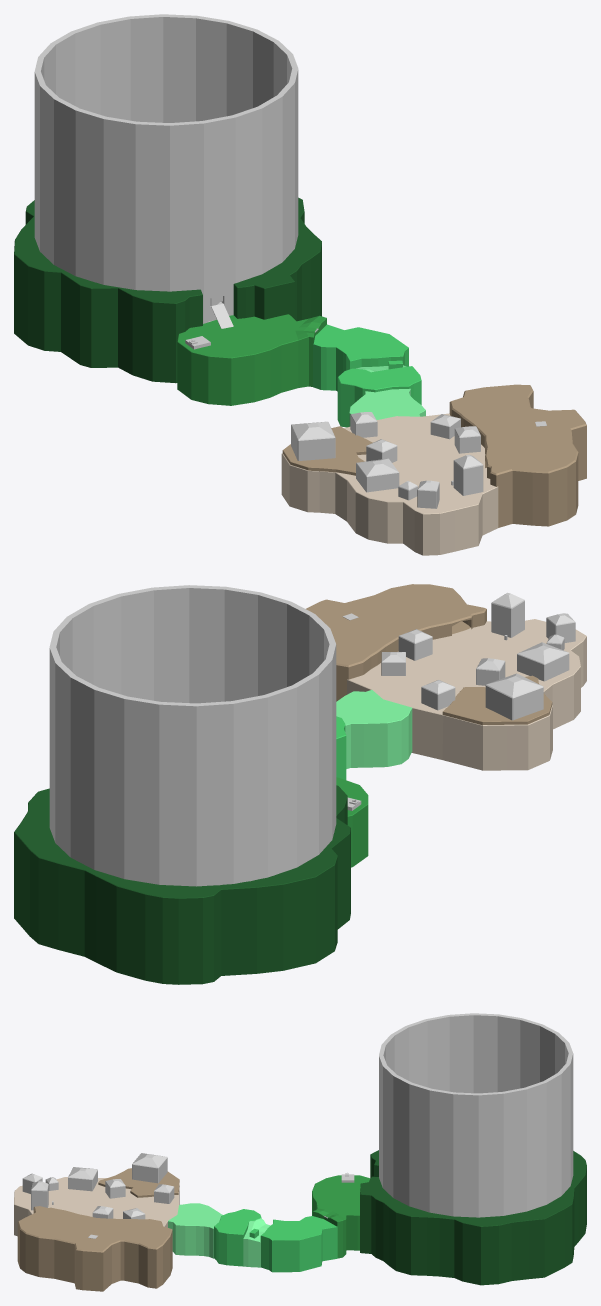
Rendered from LevelDesing_Blocking-Tutot-Test.fbx.
The picture shows the model from 3 angles, top to bottom: view 1: azimuth 30°, elevation 25°; view 2: azimuth 150°, elevation 25°; view 3: azimuth 270°, elevation 25°; orthographic projection. The views are drawn at different scales.
Parts seen in each view (by area): view 1: Z- Tours, Zone-CouloirTuto-H4, Zone-Village-H1, Zone-Village-H3, Zone-CouloirTuto-H3, Zone-CouloirTuto-H2-2, Zone-CouloirTuto-H2-1, Zone-Village-H2-1, Zone-CouloirTuto-H1-1, House.006, House.004, House; view 2: Z- Tours, Zone-CouloirTuto-H4, Zone-Village-H1, Zone-Village-H3, Zone-CouloirTuto-H1-1, House.006, Zone-Village-H2-1, Zone-CouloirTuto-H3, House.004, House, House.001, House.007 (+4 smaller); view 3: Z- Tours, Zone-CouloirTuto-H4, Zone-Village-H3, Zone-CouloirTuto-H2-2, Zone-Village-H1, Zone-CouloirTuto-H3, Zone-CouloirTuto-H1-1, Zone-CouloirTuto-H2-1, Zone-Village-H2-1, House.006, Zone-CouloirTuto-H1-2, House.004 (+1 smaller).
Part boxes in pixels (x1,y1,x2,y2): Z- Tours: (34,14,298,323); Zone-CouloirTuto-H4: (14,197,321,383); Zone-Village-H1: (281,413,498,555); Zone-Village-H3: (449,384,586,527); Zone-CouloirTuto-H3: (177,314,326,405); Zone-CouloirTuto-H2-2: (313,324,408,391); Zone-CouloirTuto-H2-1: (337,366,421,427); Zone-Village-H2-1: (282,426,372,475); Zone-CouloirTuto-H1-1: (349,388,425,426); House.006: (291,421,335,460); House.004: (356,458,399,492); House: (453,454,483,495); Z- Tours: (49,585,336,886); Zone-CouloirTuto-H4: (14,785,350,984); Zone-Village-H1: (347,619,586,770); Zone-Village-H3: (306,584,486,701); Zone-CouloirTuto-H1-1: (336,690,412,768); House.006: (485,673,543,720); Zone-Village-H2-1: (442,675,552,725); Zone-CouloirTuto-H3: (336,777,368,867); House.004: (517,642,569,681); House: (491,592,524,637); House.001: (398,629,432,660); House.007: (421,680,455,710); Z- Tours: (379,1013,573,1217); Zone-CouloirTuto-H4: (360,1150,586,1285); Zone-Village-H3: (17,1206,172,1291); Zone-CouloirTuto-H2-2: (260,1216,337,1272); Zone-Village-H1: (14,1177,179,1236); Zone-CouloirTuto-H3: (312,1175,370,1258); Zone-CouloirTuto-H1-1: (168,1203,222,1258); Zone-CouloirTuto-H2-1: (214,1209,261,1266); Zone-Village-H2-1: (98,1168,179,1197); House.006: (132,1153,167,1183); Zone-CouloirTuto-H1-2: (243,1218,270,1267); House.004: (68,1167,97,1191).
Size of the model in its own units: 14885 by 12215 by 34509.
